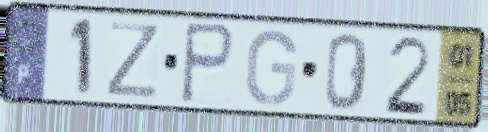0: (322, 30, 371, 114)
1: (66, 15, 96, 99)
2: (383, 33, 433, 118)
G: (242, 28, 299, 109)
P: (177, 19, 237, 107)
Z: (103, 19, 163, 101)
